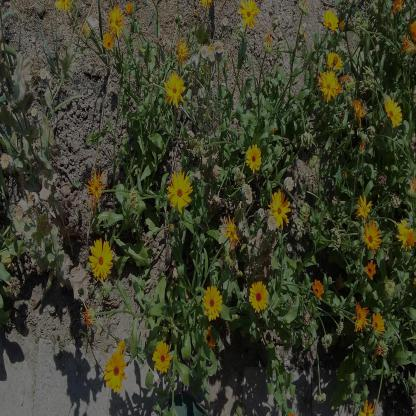marigold: (166, 170, 194, 214), (88, 235, 114, 279), (163, 72, 187, 112), (268, 187, 290, 230), (317, 66, 342, 103), (103, 351, 126, 391), (85, 168, 107, 208), (202, 283, 223, 322), (362, 219, 382, 255), (151, 338, 171, 374), (248, 278, 269, 312), (243, 143, 264, 176), (237, 0, 260, 30), (397, 215, 415, 252), (384, 96, 403, 130), (222, 216, 240, 249), (353, 300, 369, 336), (108, 7, 126, 34), (174, 38, 192, 64), (356, 194, 372, 222), (320, 8, 338, 32), (326, 49, 344, 72), (373, 309, 385, 341), (357, 397, 378, 415), (102, 31, 116, 51), (116, 339, 128, 358)
